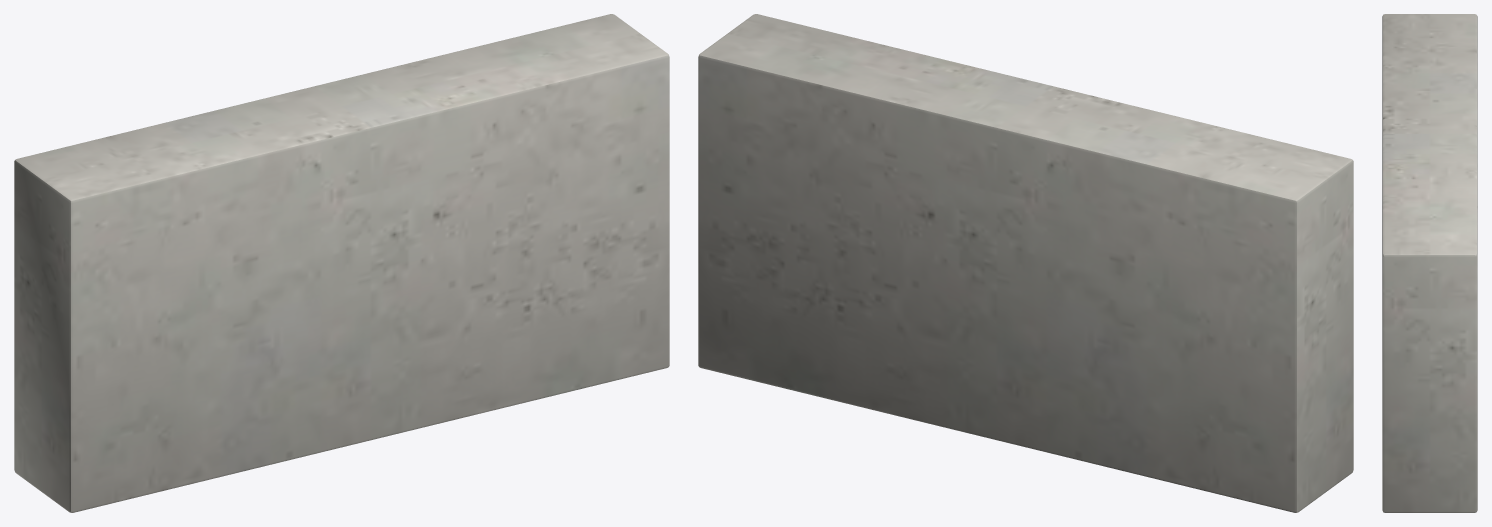
Rendered from ALV-CEL-001_lod1.glb.
3 renders of one model, left to right at view 1: azimuth 30°, elevation 25°; view 2: azimuth 150°, elevation 25°; view 3: azimuth 270°, elevation 25°, orthographic. The views are drawn at different scales.
Parts seen in each view (by area): view 1: ALV-CEL-001_peca; view 2: ALV-CEL-001_peca; view 3: ALV-CEL-001_peca.
Part boxes in pixels (x1,y1,x2,y2): ALV-CEL-001_peca: (14, 14, 669, 512); ALV-CEL-001_peca: (698, 14, 1353, 512); ALV-CEL-001_peca: (1382, 14, 1477, 512).
Size of the model in its own units: 0.6 by 0.3 by 0.1.
Materials: 1 (1 with a texture image).
